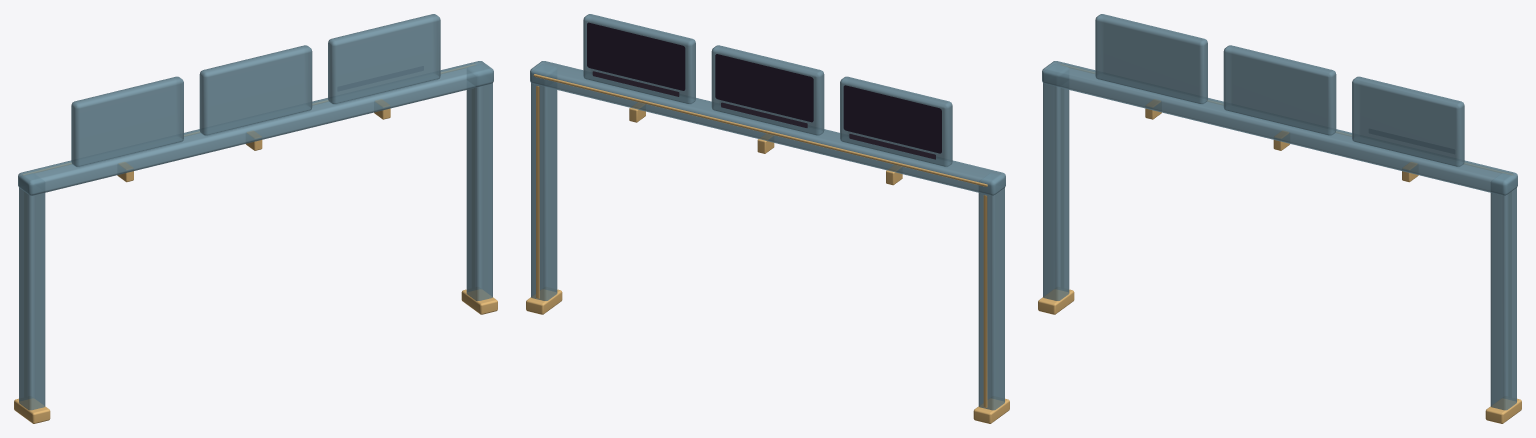
Rendered from threshold-start-gantry-lod0.glb.
3 views of the same model, side by side, from view 1: azimuth 30°, elevation 25°; view 2: azimuth 150°, elevation 25°; view 3: azimuth 330°, elevation 25° (orthographic).
Visible parts, largest first — view 1: frame; view 2: frame, start_screen_centre, start_screen_left, start_screen_right, start_credit_right, start_credit_left, start_credit_centre; view 3: frame.
Boxes of the visible parts, x1=… form: frame: x1=14, y1=14, x2=497, y2=423; frame: x1=526, y1=14, x2=1009, y2=423; start_screen_centre: x1=715, y1=54, x2=813, y2=122; start_screen_left: x1=843, y1=85, x2=941, y2=153; start_screen_right: x1=587, y1=22, x2=685, y2=90; start_credit_right: x1=592, y1=71, x2=679, y2=96; start_credit_left: x1=849, y1=134, x2=935, y2=159; start_credit_centre: x1=721, y1=102, x2=807, y2=127; frame: x1=1038, y1=14, x2=1521, y2=423.
Bounding box in the file's own units: 15.6 × 9.67 × 1.15.
